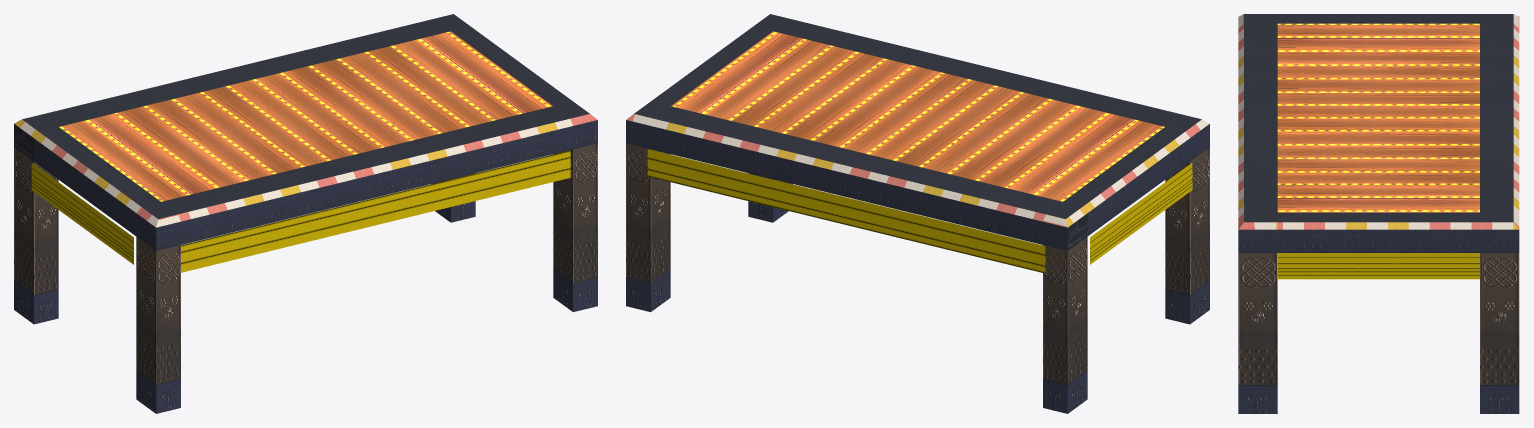
File: Table02_Art.fbx
3 renders of one model, left to right at view 1: azimuth 30°, elevation 25°; view 2: azimuth 150°, elevation 25°; view 3: azimuth 270°, elevation 25°, orthographic.
Parts seen in each view (by area): view 1: Table02_Art; view 2: Table02_Art; view 3: Table02_Art.
Boxes of the visible parts, left/top/right/bottom form: Table02_Art: left=14, top=14, right=597, bottom=413; Table02_Art: left=626, top=14, right=1209, bottom=413; Table02_Art: left=1238, top=14, right=1519, bottom=413.
Size of the model in its own units: 1.91 by 0.7883 by 1.06.
